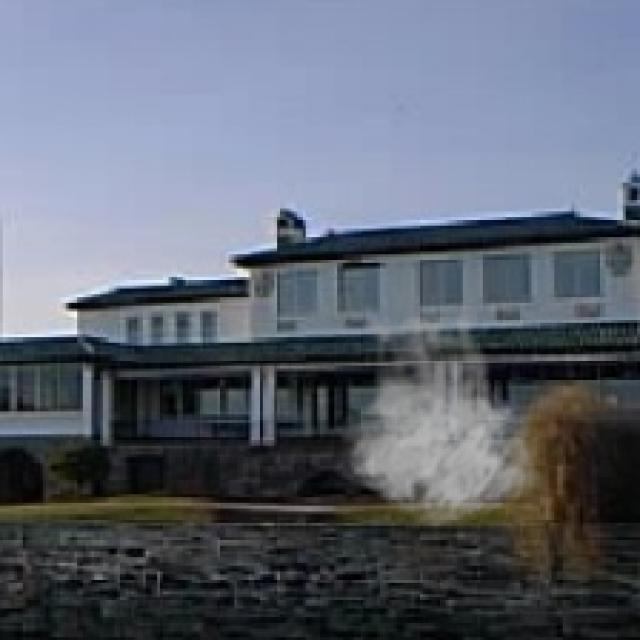smoke: (328, 297, 543, 529)
